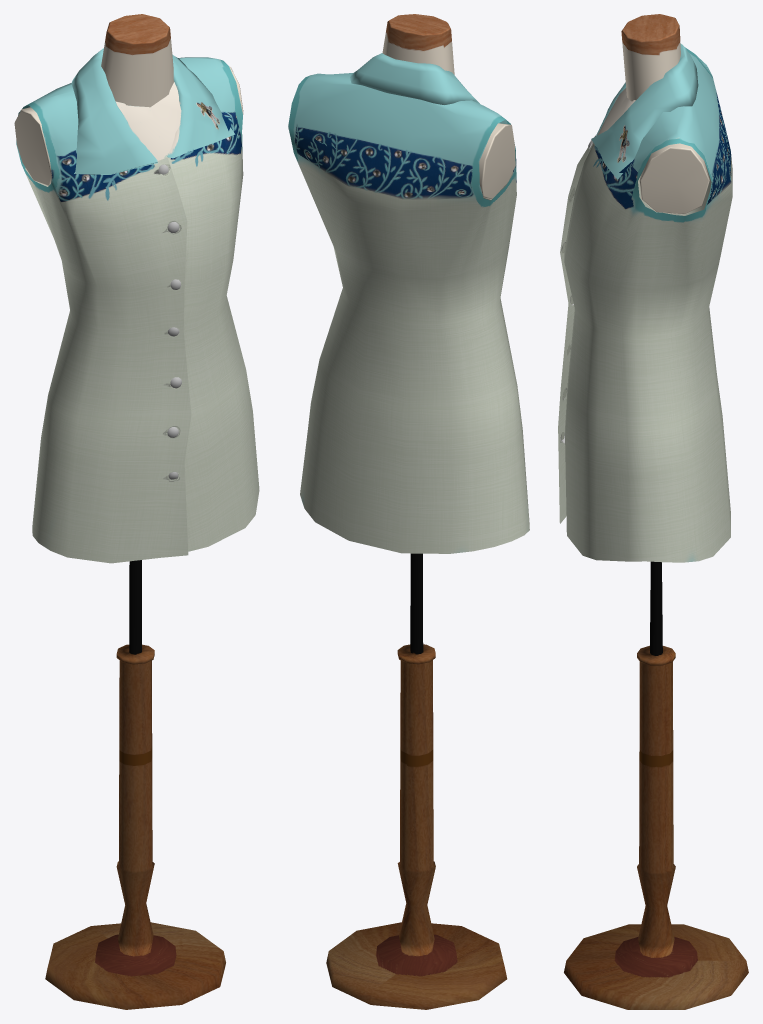
File: New_Lady_Outfit 001.fbx
3 renders of one model, left to right at view 1: azimuth 30°, elevation 25°; view 2: azimuth 150°, elevation 25°; view 3: azimuth 270°, elevation 25°, orthographic.
Visible parts, largest first — view 1: polySurface2, pCylinder4, _Mesh2, pCylinder7; view 2: polySurface2, pCylinder4, _Mesh2, pCylinder7; view 3: polySurface2, pCylinder4, _Mesh2, pCylinder6.
Part boxes in pixels (bbox=[...]): polySurface2: bbox=[16, 57, 259, 563]; pCylinder4: bbox=[45, 14, 225, 1009]; _Mesh2: bbox=[71, 48, 235, 174]; pCylinder7: bbox=[14, 107, 52, 185]; polySurface2: bbox=[288, 73, 529, 553]; pCylinder4: bbox=[326, 14, 507, 1009]; _Mesh2: bbox=[350, 53, 479, 104]; pCylinder7: bbox=[479, 123, 515, 199]; polySurface2: bbox=[558, 47, 732, 562]; pCylinder4: bbox=[564, 14, 748, 1009]; _Mesh2: bbox=[591, 43, 698, 179]; pCylinder6: bbox=[639, 143, 709, 214].
Bounding box in the file's own units: 14.86 × 62.57 × 11.42.
1 material, 1 textured.
